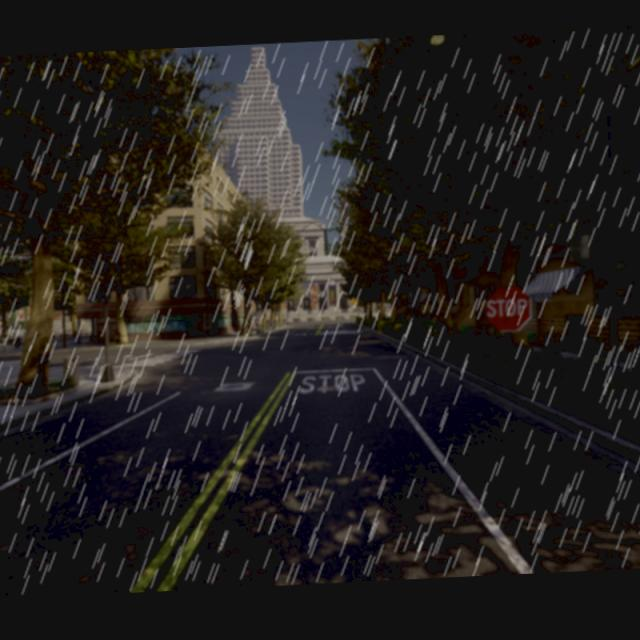stop sign: (482, 281, 532, 334)
